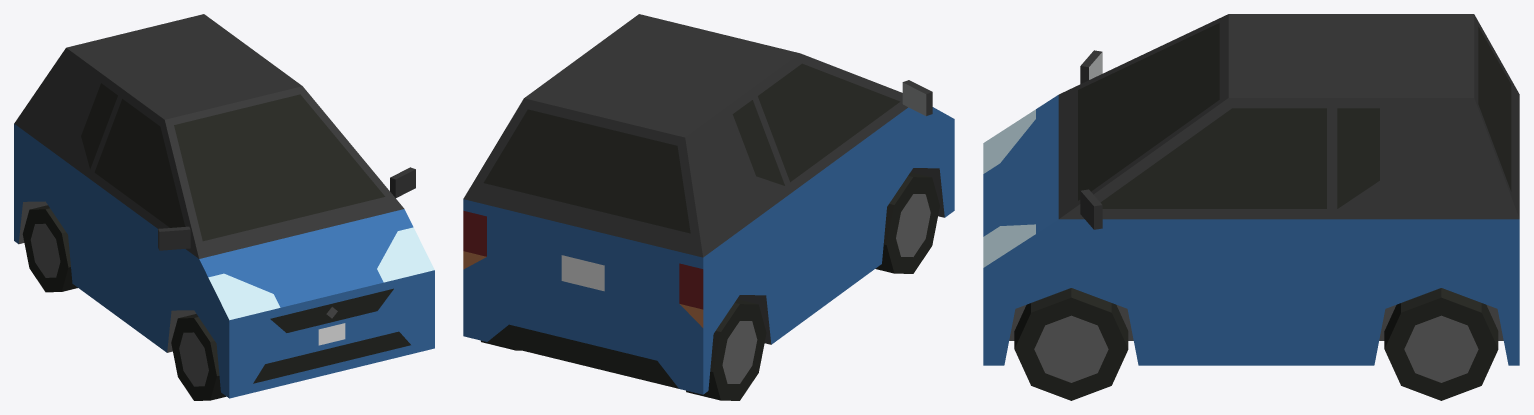
File: Veh_Microcar_Blue.glb
The picture shows the model from 3 angles, left to right: view 1: azimuth 30°, elevation 25°; view 2: azimuth 150°, elevation 25°; view 3: azimuth 270°, elevation 25°; orthographic projection. The views are drawn at different scales.
Visible parts, largest first — view 1: Microcar_Blue, Wheel_FR, Wheel_RR; view 2: Microcar_Blue, Wheel_RR, Wheel_FR; view 3: Microcar_Blue, Wheel_FL, Wheel_RL.
Part boxes in pixels (x1,y1,x2,y2): Microcar_Blue: (14,14,434,398); Wheel_FR: (171,314,226,400); Wheel_RR: (22,205,77,292); Microcar_Blue: (463,14,954,394); Wheel_RR: (686,299,766,400); Wheel_FR: (875,172,939,273); Microcar_Blue: (983,14,1519,365); Wheel_FL: (1014,288,1128,400); Wheel_RL: (1384,288,1498,400).
Bounding box in the file's own units: 0.9194 × 0.7766 × 1.34.
1 material, 1 textured.
